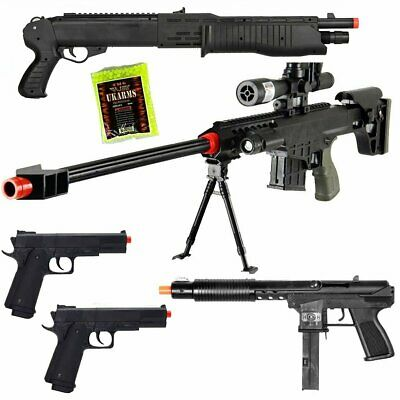Arma Falsa: (2, 63, 394, 213), (10, 6, 367, 98), (160, 274, 398, 377), (42, 301, 179, 399), (2, 224, 133, 303)
